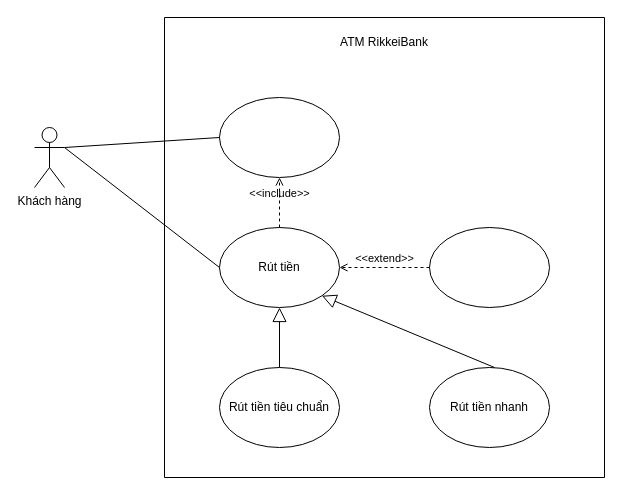
This 622x495 diagram has some shape labels left out. The centre of each missing label's shape, as x and y in pixels:
In hóa đơn: pixel 489 267
Đăng nhập: pixel 279 137
